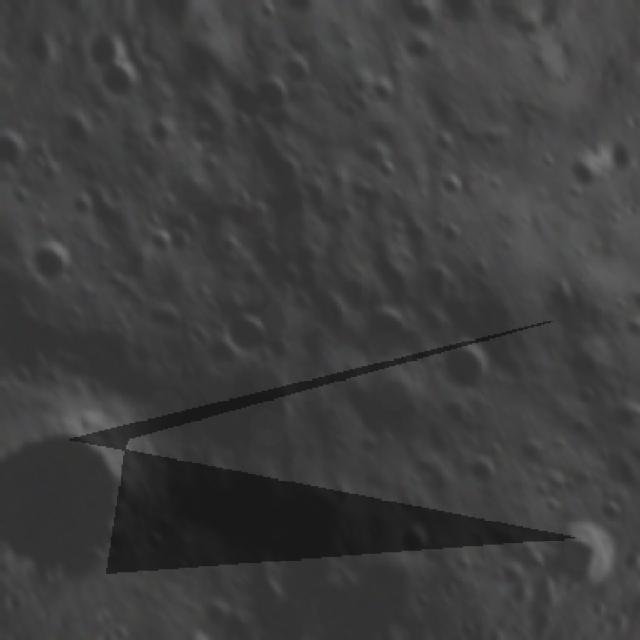crater: (12, 362, 190, 578), (345, 357, 433, 438), (426, 323, 506, 405), (352, 289, 433, 366), (15, 229, 81, 293), (238, 62, 297, 124), (217, 299, 275, 359), (218, 179, 274, 235), (560, 140, 609, 198), (300, 280, 352, 334), (392, 517, 441, 565), (258, 145, 307, 193), (457, 446, 505, 494), (143, 290, 191, 338), (382, 0, 442, 37), (587, 487, 631, 535), (92, 61, 140, 105), (541, 268, 585, 314), (392, 28, 437, 72), (423, 163, 469, 206), (430, 0, 496, 29), (486, 550, 531, 588), (0, 120, 29, 178), (56, 109, 93, 153), (64, 185, 102, 226), (384, 482, 424, 520), (143, 115, 179, 156), (512, 432, 552, 468), (277, 50, 315, 87), (422, 124, 460, 161), (562, 408, 600, 444), (368, 151, 404, 189), (606, 397, 640, 437), (274, 0, 328, 25), (433, 213, 469, 250), (362, 72, 398, 108), (570, 377, 605, 411), (292, 238, 323, 272), (165, 220, 198, 251), (147, 226, 175, 260), (452, 402, 483, 432), (522, 47, 549, 75), (530, 148, 558, 175), (104, 268, 130, 294), (251, 0, 277, 25), (171, 627, 219, 640), (110, 617, 136, 640), (621, 313, 640, 344), (624, 282, 640, 311)
